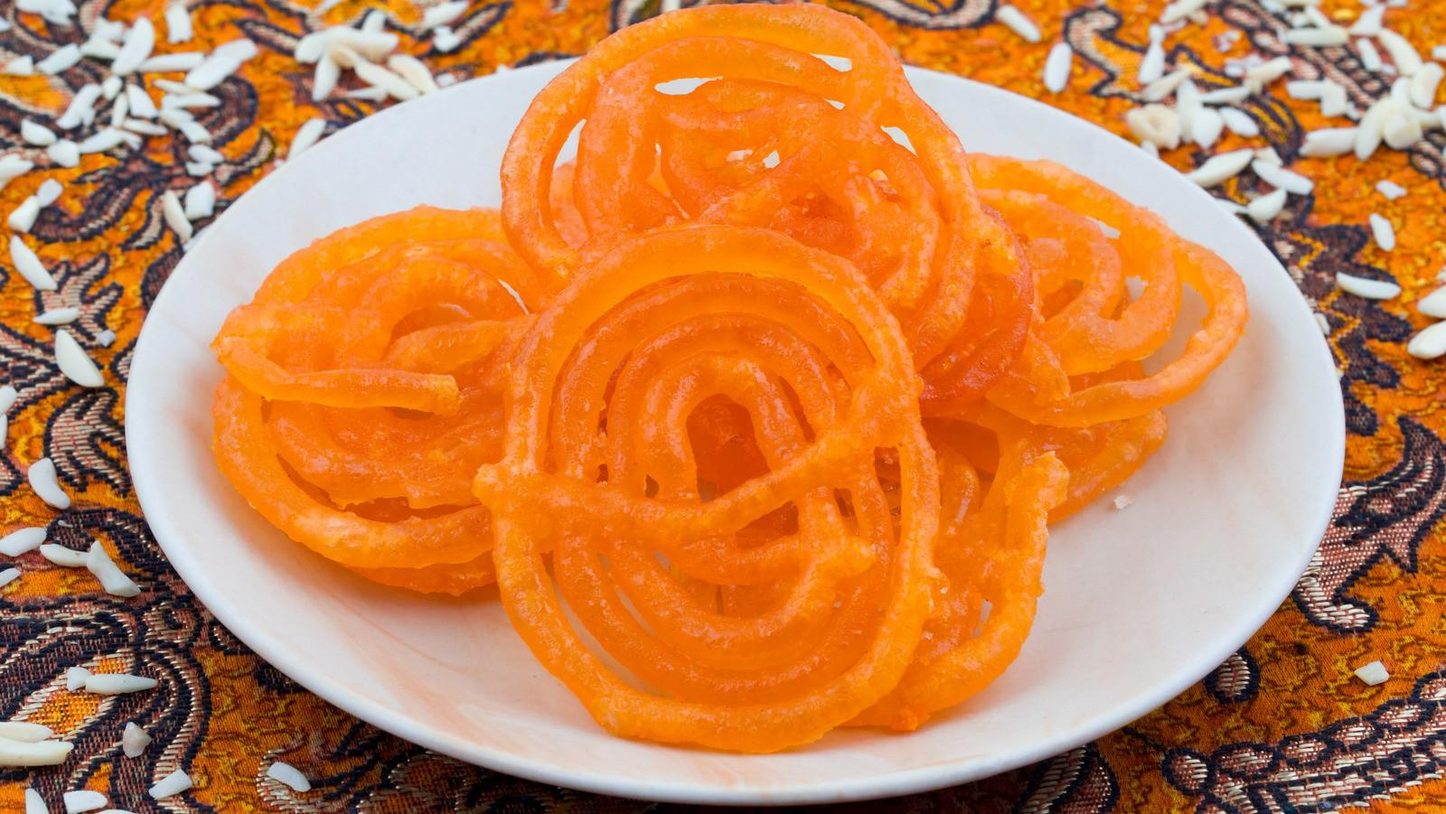Jalebi: (201, 0, 1253, 755)
